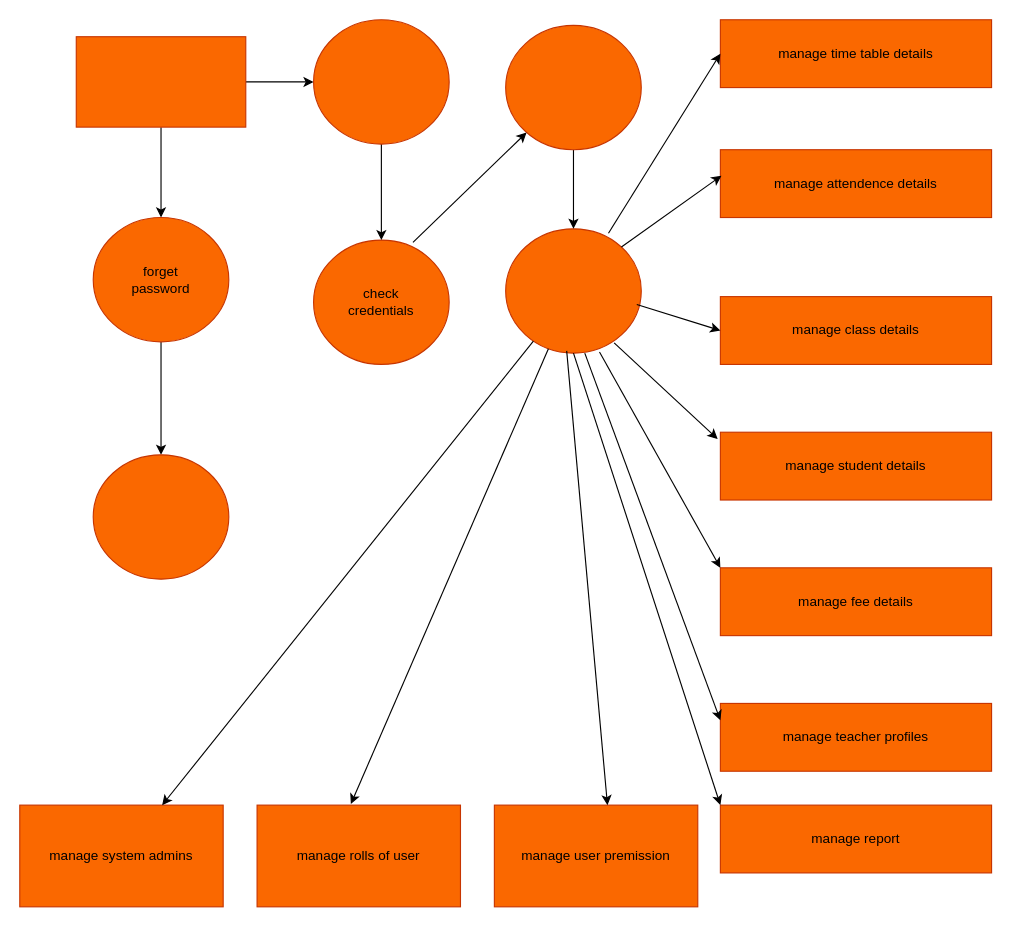
This 1011x927 diagram has some shape labels left out. The shapes that lost their labels are listed below. From the top down, each one's centre as x and y in pixels, then its label:
[160,81]: Admin
[380,81]: login to system
[573,87]: check rolls of access
[573,290]: manage modules
[160,516]: send email to user
